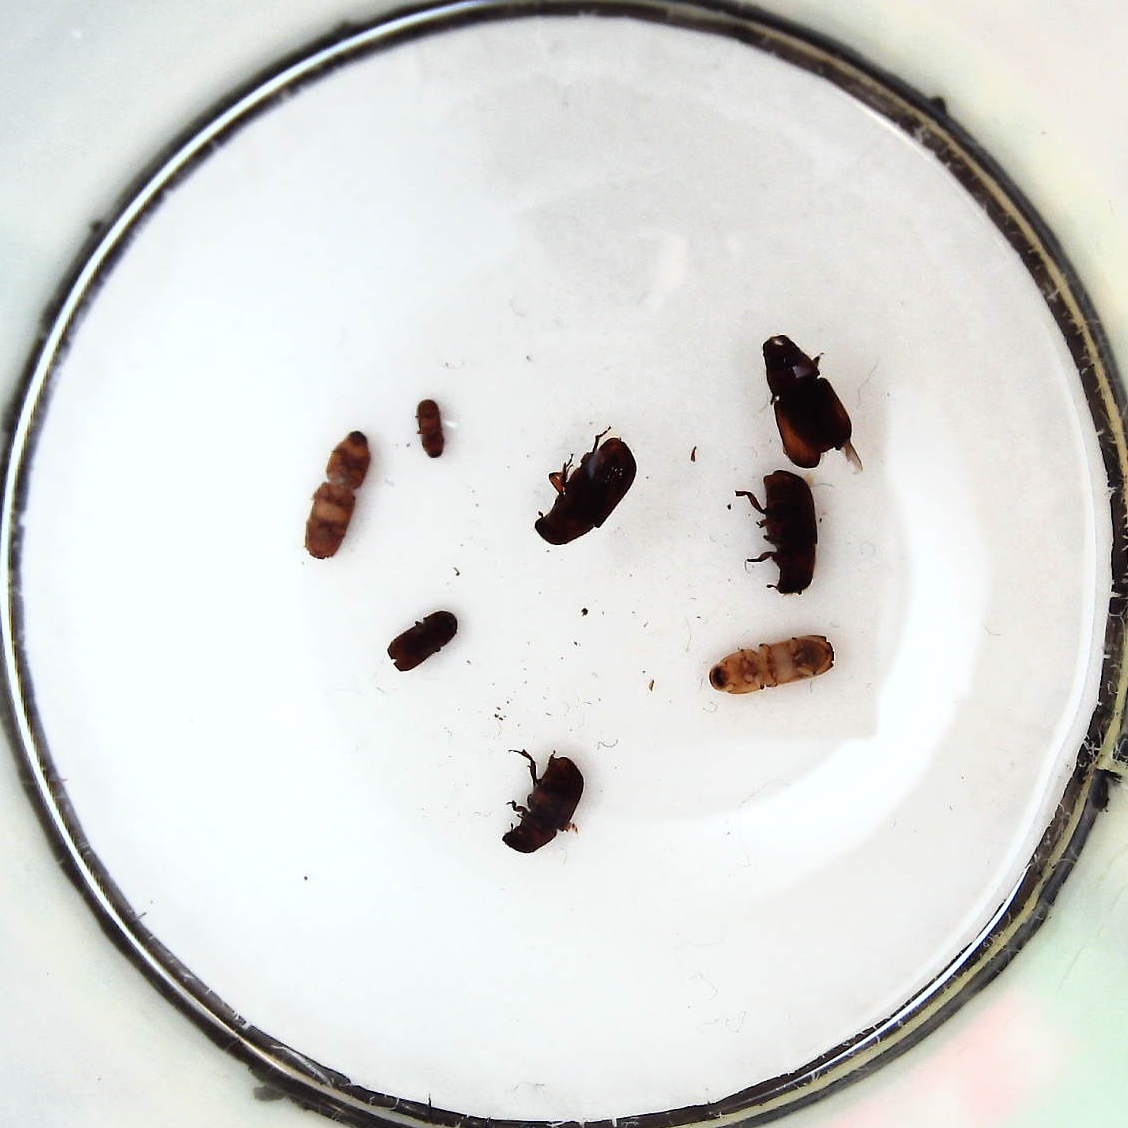Boerner: (301, 431, 371, 562), (704, 632, 837, 695)
Leconte: (760, 328, 857, 467), (530, 428, 639, 544), (734, 467, 822, 596), (503, 749, 588, 855)
Linnaeus: (386, 606, 462, 672)
acuminatus: (412, 396, 448, 464)
